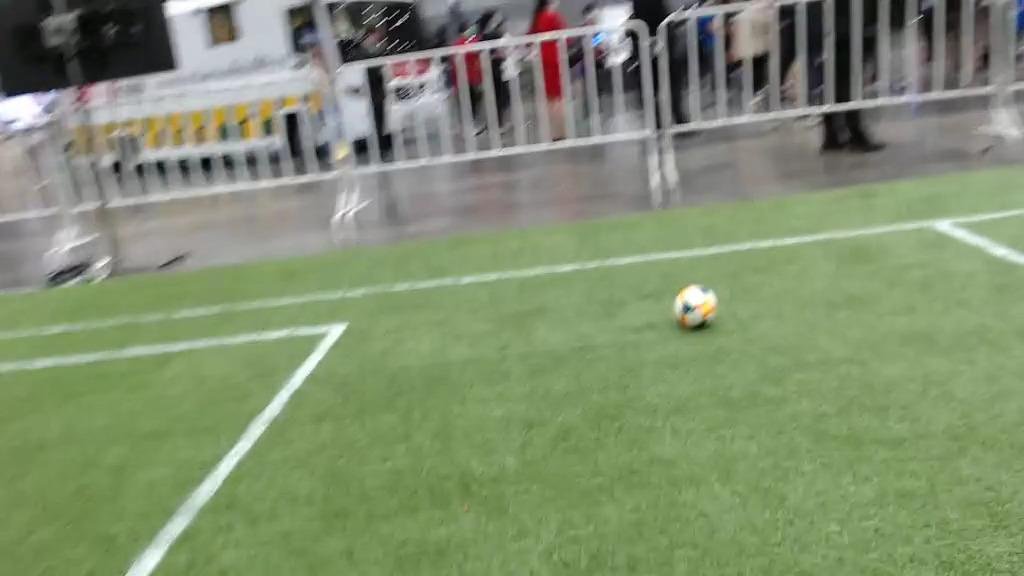ball: (675, 282, 717, 332)
